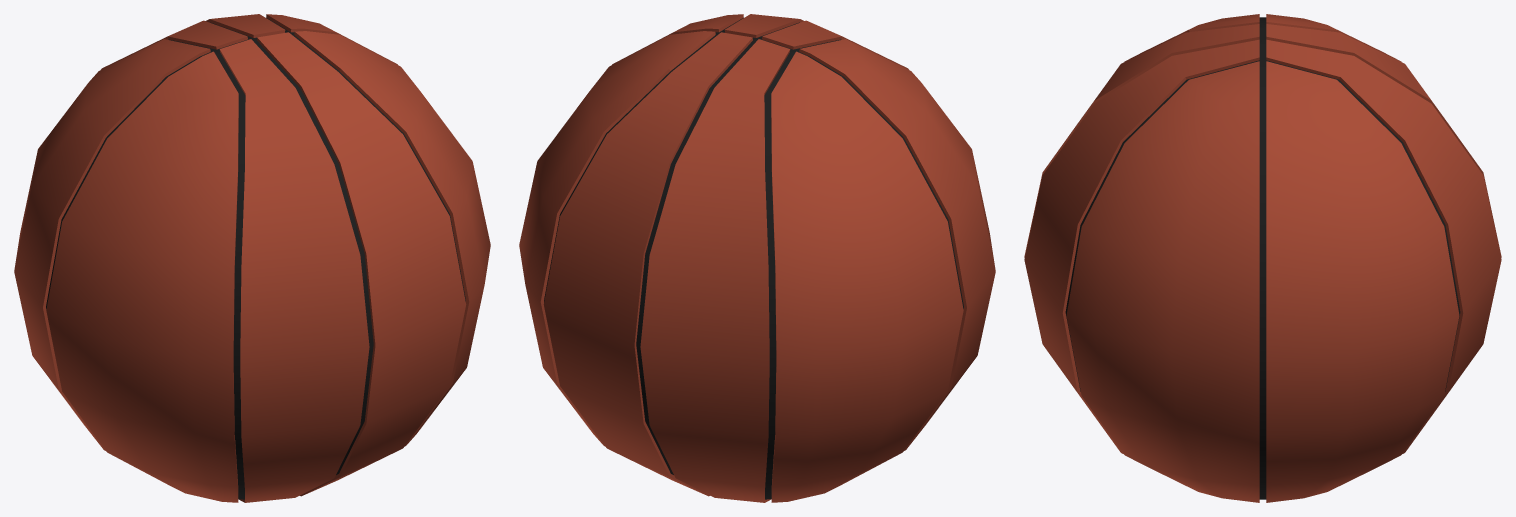
The model's file is Ballon_De_Basket.fbx.
3 views of the same model, side by side, from view 1: azimuth 30°, elevation 25°; view 2: azimuth 150°, elevation 25°; view 3: azimuth 270°, elevation 25° (orthographic).
Visible parts, largest first — view 1: Ballon_De_Basket; view 2: Ballon_De_Basket; view 3: Ballon_De_Basket.
Boxes of the visible parts, bbox=[...] form: Ballon_De_Basket: bbox=[14, 14, 490, 502]; Ballon_De_Basket: bbox=[519, 14, 995, 502]; Ballon_De_Basket: bbox=[1024, 14, 1501, 502].
Bounding box in the file's own units: 34.15 × 34.77 × 34.15.
Materials: 1 (1 with a texture image).
